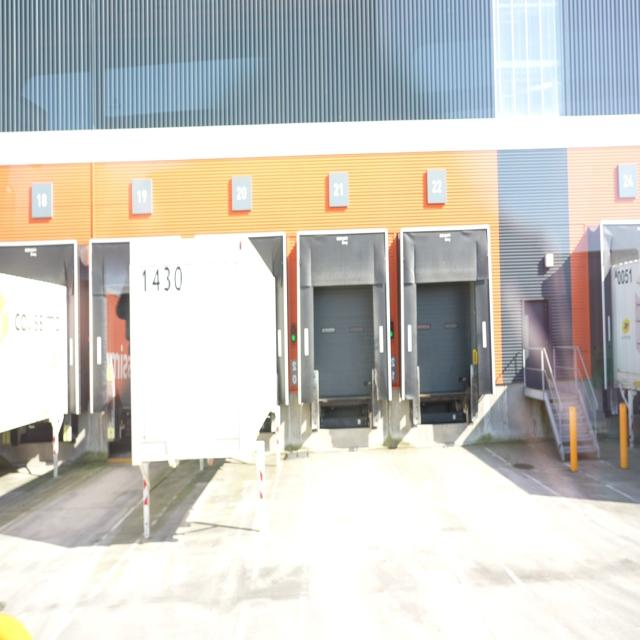Code: (140, 260, 187, 302), (611, 259, 636, 290)
